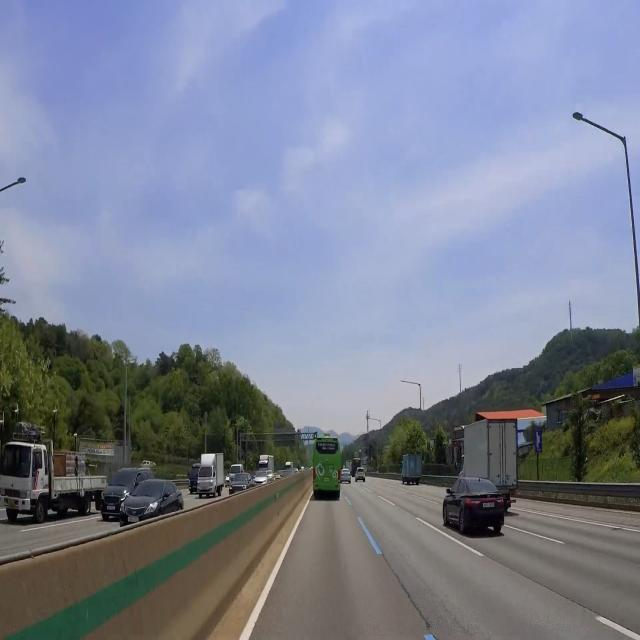car: (0, 497, 20, 512), (125, 513, 143, 528), (482, 497, 496, 515), (104, 504, 119, 515), (322, 473, 332, 486)
